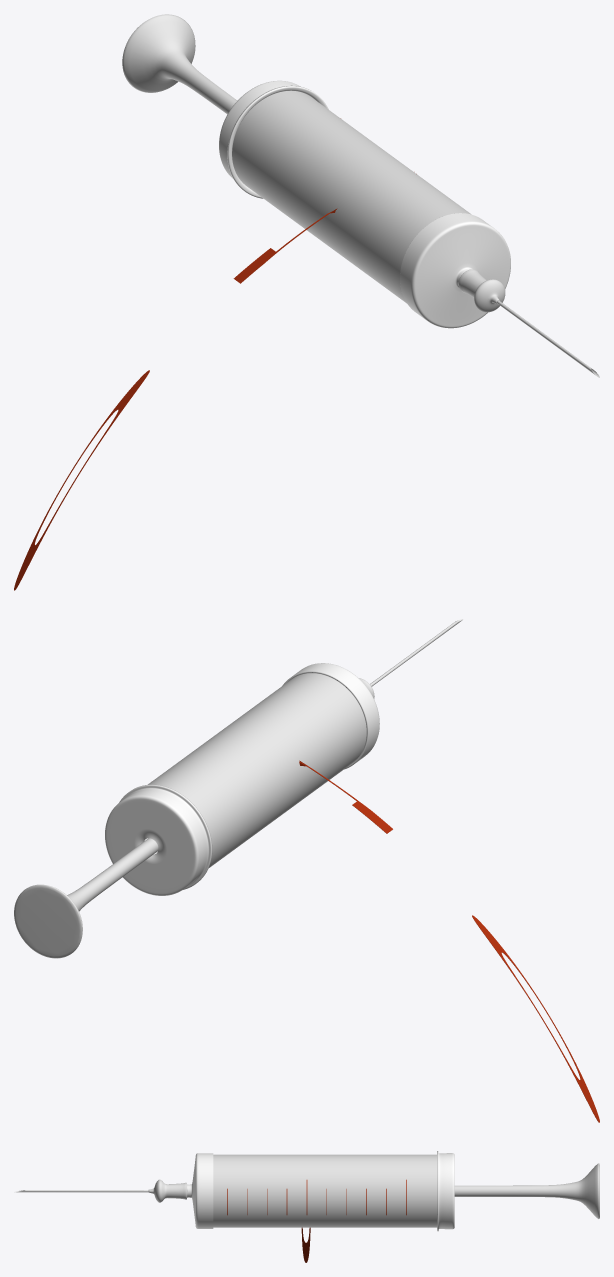
Rendered from iğne.fbx.
3 views of the same model, one above another, from view 1: azimuth 30°, elevation 25°; view 2: azimuth 150°, elevation 25°; view 3: azimuth 270°, elevation 25° (orthographic). The views are drawn at different scales.
Parts seen in each view (by area): view 1: Glass Tube, Front, Piston, Rear, Text 10, Needle Cap; view 2: Glass Tube, Rear, Piston, Front, Text 10; view 3: Glass Tube, Piston, Front, Rear, Needle Cap, Needle, Scale Meter, Text 10.
Part boxes in pixels (bbox=[...]): Glass Tube: bbox=[232, 90, 471, 303]; Front: bbox=[400, 213, 510, 328]; Piston: bbox=[122, 14, 237, 114]; Rear: bbox=[219, 80, 328, 198]; Text 10: bbox=[14, 208, 337, 590]; Needle Cap: bbox=[458, 269, 505, 312]; Glass Tube: bbox=[144, 673, 366, 867]; Rear: bbox=[105, 784, 212, 895]; Piston: bbox=[14, 838, 158, 958]; Front: bbox=[282, 663, 379, 769]; Text 10: bbox=[299, 760, 599, 1122]; Glass Tube: bbox=[213, 1154, 436, 1227]; Piston: bbox=[454, 1163, 599, 1218]; Front: bbox=[187, 1153, 213, 1228]; Rear: bbox=[437, 1151, 454, 1231]; Needle Cap: bbox=[148, 1179, 187, 1202]; Needle: bbox=[14, 1190, 148, 1192]; Scale Meter: bbox=[227, 1179, 406, 1215]; Text 10: bbox=[301, 1227, 310, 1262].
Bounding box in the file's own units: 241 × 188 × 441.
